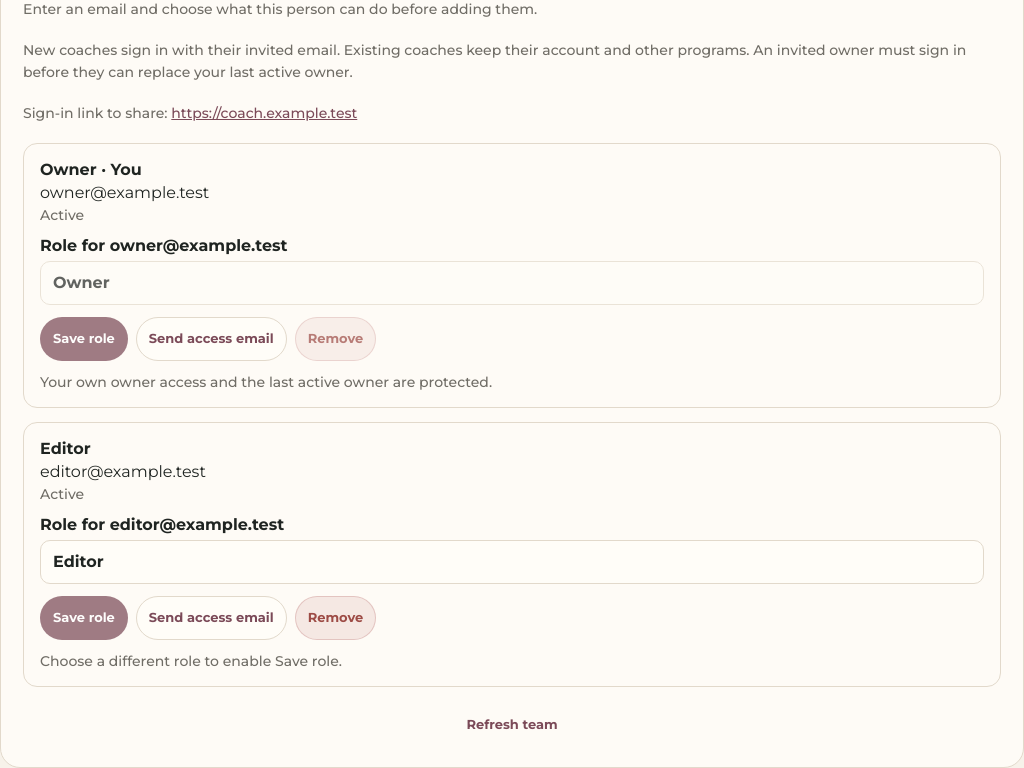
Test: WorkspaceCollaborators › clears team data when refreshed permission is revoked
(page scrolled)
Check: the element named "owner@example.test team access" is shown, box [23,143,1001,408]
Click the button "Refresh team".
click(512, 725)  # box [23,705,1001,745]
(page scrolled)
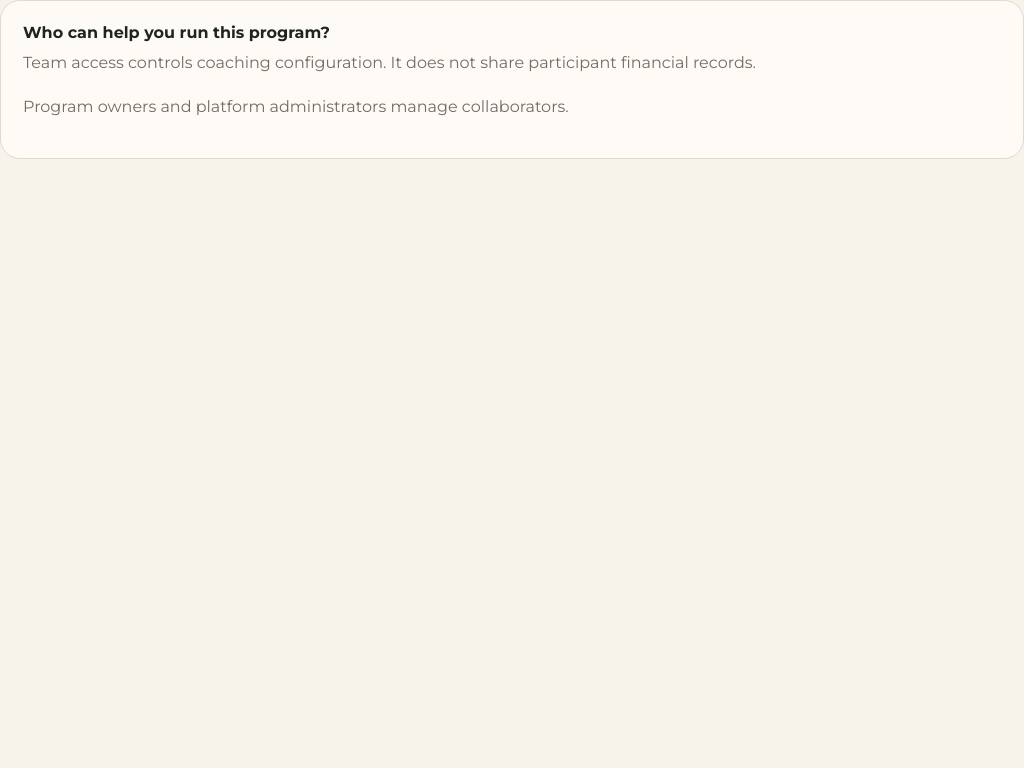
Check: the text "Program owners and platform administrators manage collaborators." is shown, box [23,97,569,116]
Check: the text "owner@example.test" is gone
